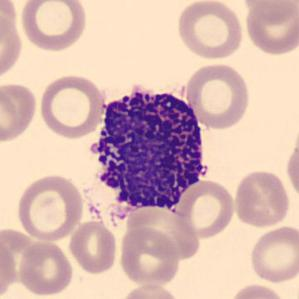Basophil: (82, 78, 217, 226)
RBC: (14, 172, 86, 242), (182, 61, 252, 131), (37, 72, 107, 140), (174, 0, 245, 61), (173, 177, 236, 241), (117, 225, 181, 288), (18, 0, 89, 53), (231, 168, 292, 229), (128, 208, 199, 260), (16, 238, 75, 297), (66, 218, 120, 275), (248, 223, 298, 284), (243, 1, 298, 56), (0, 79, 38, 144), (0, 9, 24, 84), (0, 231, 19, 299), (227, 281, 290, 299), (118, 282, 182, 299), (284, 137, 299, 202), (239, 0, 296, 16)
